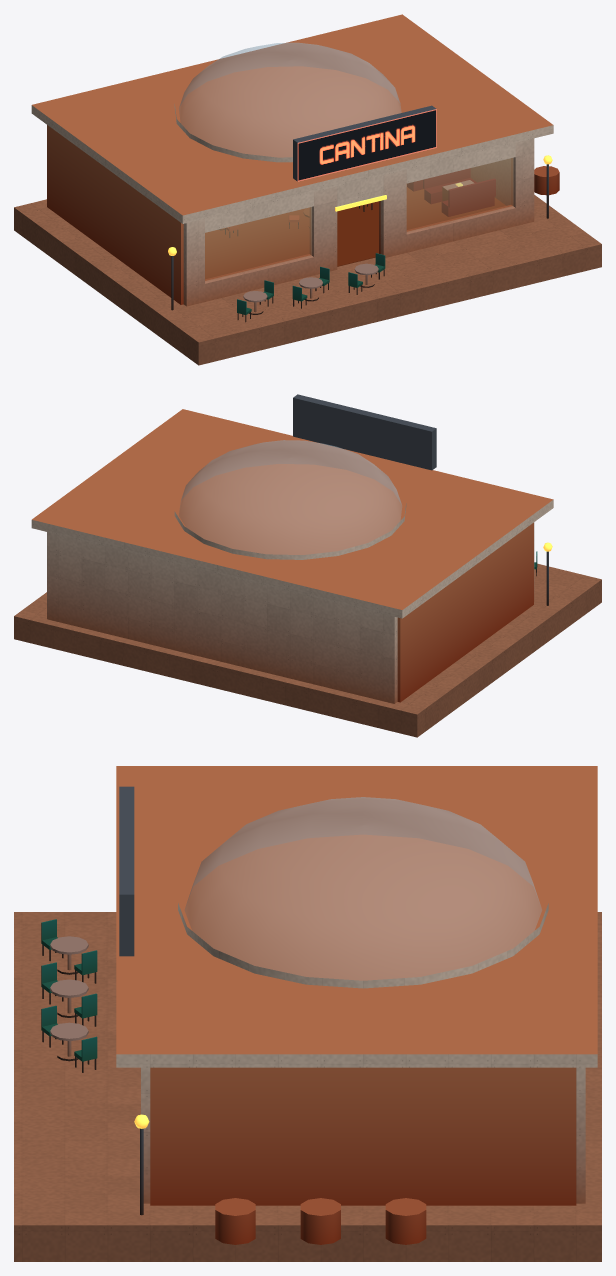
File: red_dune_cantina.glb
The picture shows the model from 3 angles, top to bottom: view 1: azimuth 30°, elevation 25°; view 2: azimuth 150°, elevation 25°; view 3: azimuth 270°, elevation 25°; orthographic projection. The views are drawn at different scales.
Visible parts, largest first — view 1: red_dune_cantina_LOD0; view 2: red_dune_cantina_LOD0; view 3: red_dune_cantina_LOD0.
Part boxes in pixels (x1=…): red_dune_cantina_LOD0: x1=14, y1=14, x2=601, y2=365; red_dune_cantina_LOD0: x1=14, y1=394, x2=601, y2=737; red_dune_cantina_LOD0: x1=14, y1=766, x2=601, y2=1261.
Size of what is drawn, in the model's own units: 18.5 by 7.25 by 13.8.
3 materials, 2 textured.
